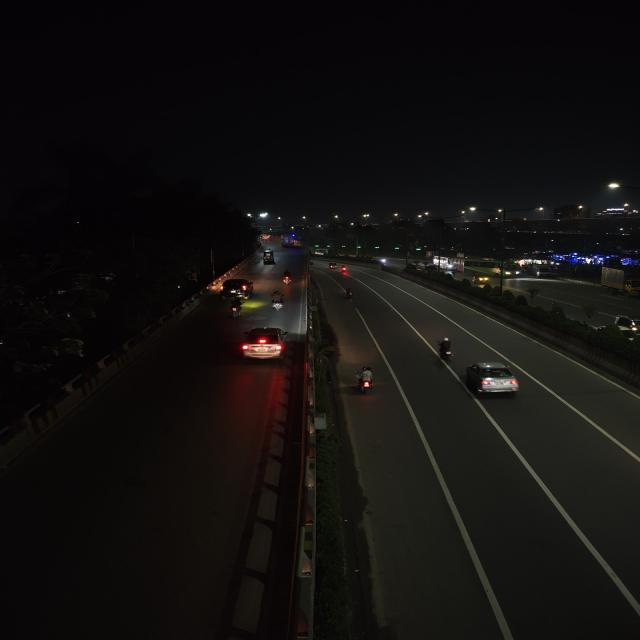bus: (464, 258, 522, 278), (435, 254, 462, 270)
car: (463, 358, 522, 402), (236, 325, 292, 363), (610, 313, 640, 339), (220, 277, 257, 298)
cng: (469, 272, 490, 286), (261, 252, 277, 264)
motorcycle: (350, 364, 380, 397), (434, 336, 460, 362), (267, 289, 286, 313), (226, 298, 245, 319), (341, 285, 357, 301), (282, 270, 294, 286), (338, 264, 349, 274)
truck: (599, 264, 640, 300), (280, 233, 297, 248)
